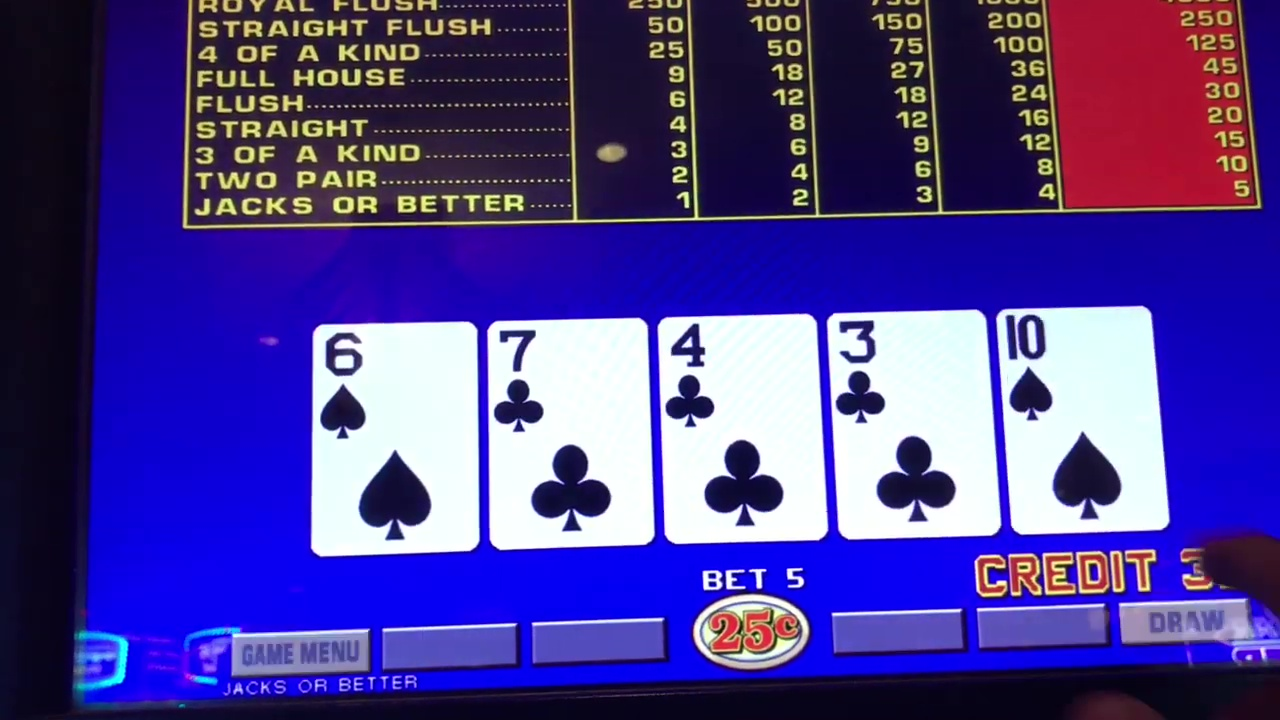C3: (834, 316, 989, 537)
C4: (668, 315, 815, 543)
C7: (489, 321, 643, 544)
S6: (315, 325, 475, 548)
ST: (1007, 306, 1149, 535)
